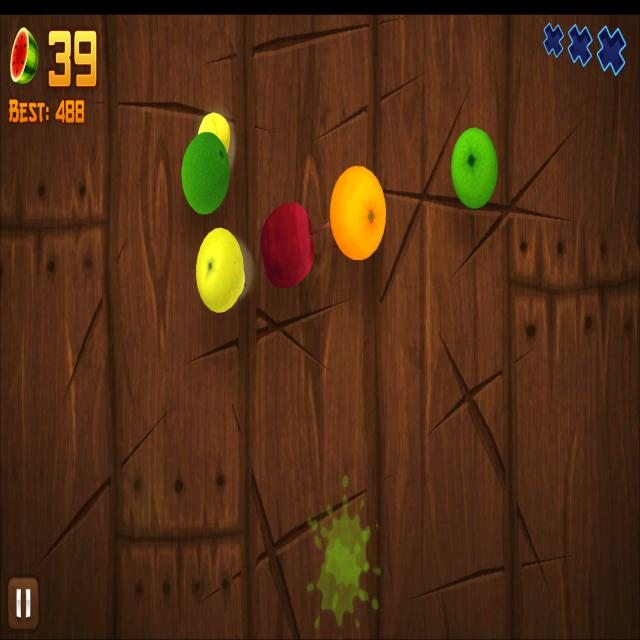fruit: (329, 164, 386, 262), (260, 201, 314, 290), (196, 226, 246, 314), (180, 132, 230, 215), (451, 125, 498, 211), (198, 112, 231, 153)
